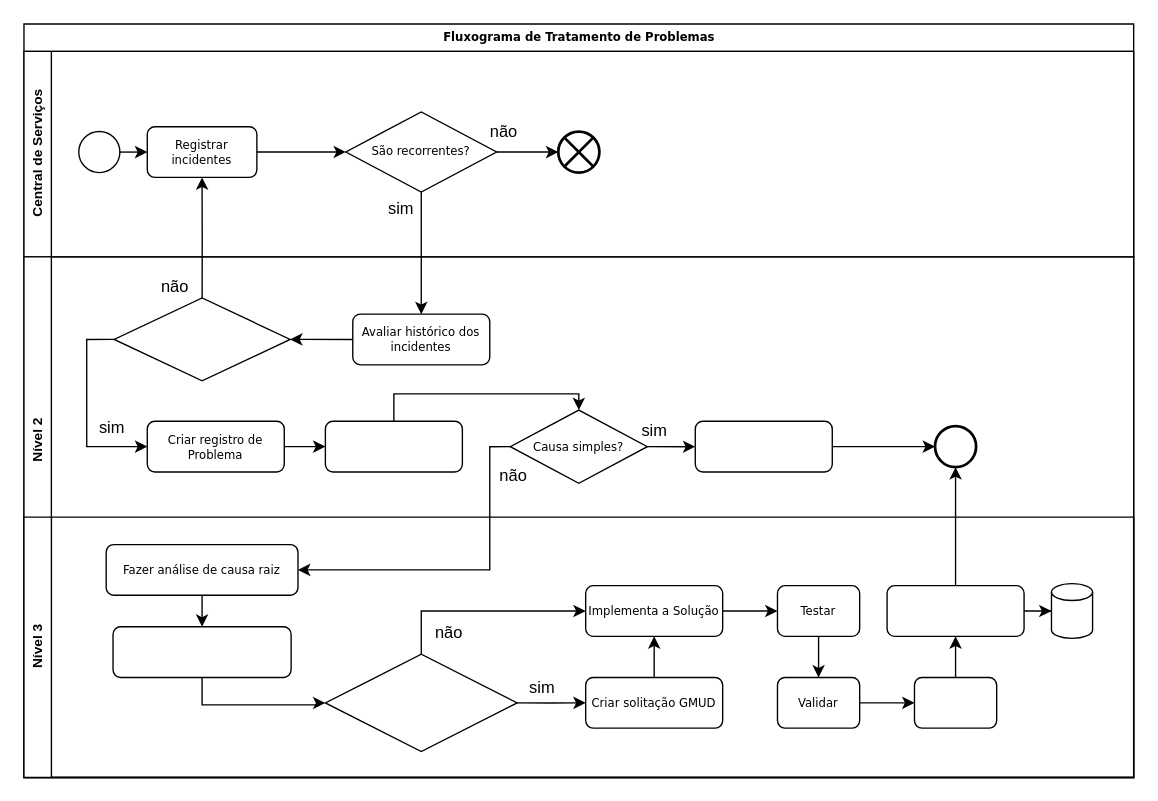
The diagram is 1158 pixels wide and 801 high, and some of its shapes have lost their labels. The shapes that lost their labels are listed below. From the top down, each one's centre as x and y in pixels, then its label:
point 201,339: Há um problema real?
point 393,446: Realizar análise técnica inicial
point 763,446: Resolver
point 955,610: Atualizar base de conhecimentos
point 201,651: Definir Solução Definitiva
point 420,702: Envolve mudança estrutural no sistema?
point 955,702: Documentar
